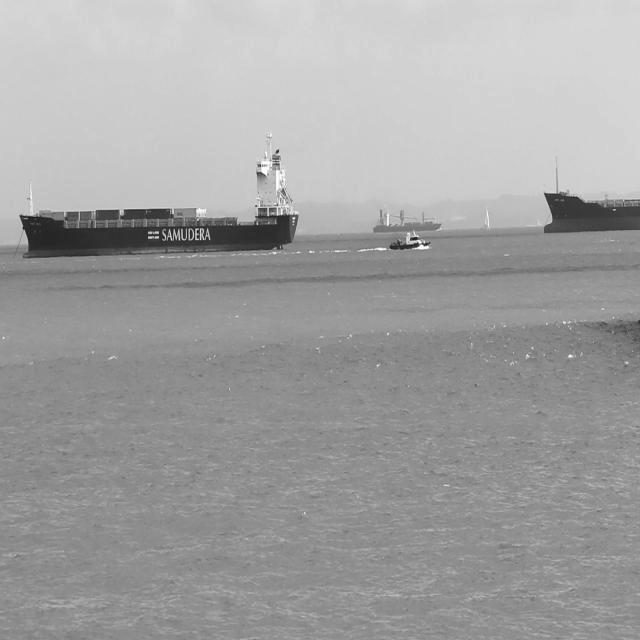ship: (19, 131, 299, 259), (544, 153, 639, 234), (371, 206, 441, 234), (388, 228, 430, 252), (482, 204, 490, 232)
